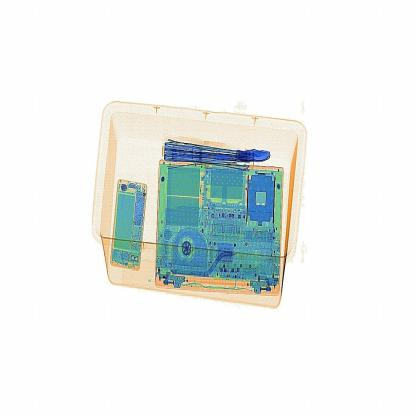knife: (230, 140, 280, 168)
